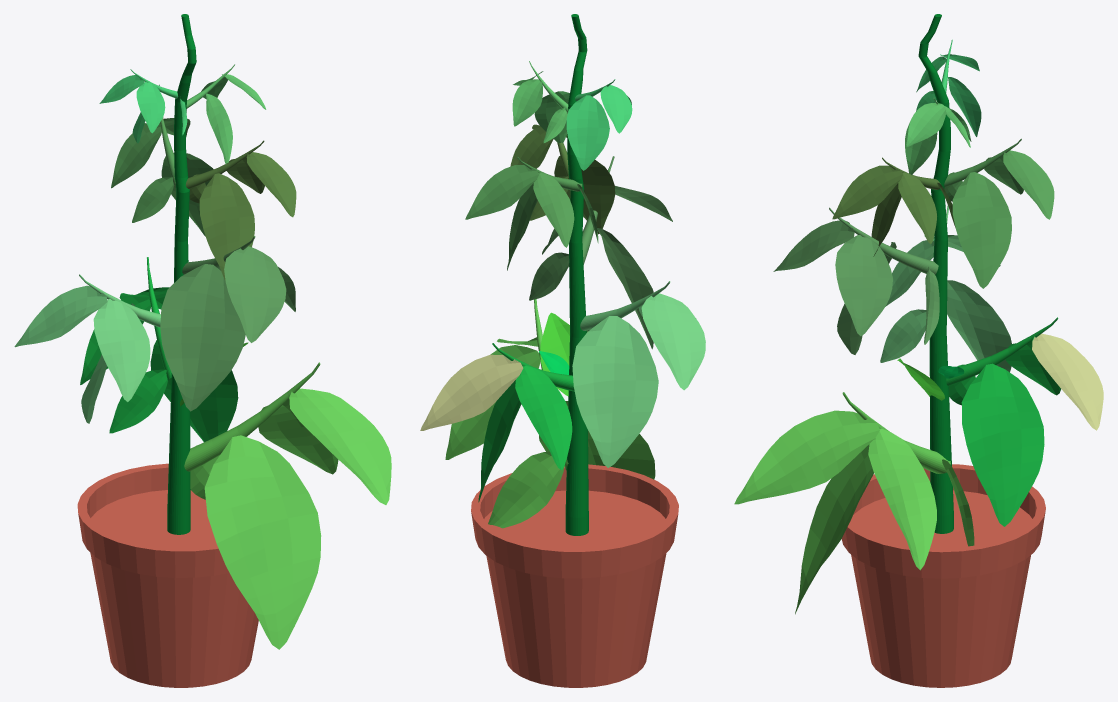
File: plant.fbx
The picture shows the model from 3 angles, left to right: view 1: azimuth 30°, elevation 25°; view 2: azimuth 150°, elevation 25°; view 3: azimuth 270°, elevation 25°; orthographic projection.
Parts seen in each view (by area): view 1: 円柱.001, 平面.001, 平面.007, 平面.002, 平面.010, 円柱, 平面.003, 平面.009, 平面.013, 平面.012; view 2: 円柱.001, 平面.002, 平面.001, 円柱, 平面.003, 平面.009, 平面.007, 平面.005, 平面.013, 平面.010, 平面.012, 平面.008 (+1 smaller); view 3: 円柱.001, 平面.001, 平面.003, 平面.007, 平面.009, 円柱, 平面.002, 平面.010, 平面.005, 平面.012, 平面.013.
Part boxes in pixels (<box>): 円柱.001: <box>77,463,258,687</box>; 平面.001: <box>184,362,391,649</box>; 平面.007: <box>160,236,295,411</box>; 平面.002: <box>14,274,160,423</box>; 平面.010: <box>185,140,296,280</box>; 円柱: <box>167,14,196,534</box>; 平面.003: <box>80,257,238,442</box>; 平面.009: <box>111,117,213,236</box>; 平面.013: <box>99,69,187,143</box>; 平面.012: <box>186,64,266,164</box>; 円柱.001: <box>471,464,678,687</box>; 平面.002: <box>572,281,705,467</box>; 平面.001: <box>445,299,655,528</box>; 円柱: <box>565,14,588,535</box>; 平面.003: <box>478,343,574,502</box>; 平面.009: <box>465,156,598,270</box>; 平面.007: <box>529,156,672,349</box>; 平面.005: <box>420,354,523,430</box>; 平面.013: <box>566,79,632,170</box>; 平面.010: <box>510,124,615,234</box>; 平面.012: <box>512,61,569,143</box>; 平面.008: <box>540,312,569,396</box>; 円柱.001: <box>841,464,1045,687</box>; 平面.001: <box>734,392,974,614</box>; 平面.003: <box>946,317,1060,526</box>; 平面.007: <box>773,207,939,354</box>; 平面.009: <box>944,138,1054,288</box>; 円柱: <box>918,14,953,533</box>; 平面.002: <box>880,205,1011,372</box>; 平面.010: <box>832,157,955,256</box>; 平面.005: <box>1032,333,1103,430</box>; 平面.012: <box>905,98,971,174</box>; 平面.013: <box>916,39,981,136</box>.
Size of the model in its own units: 460 by 1003 by 522.
